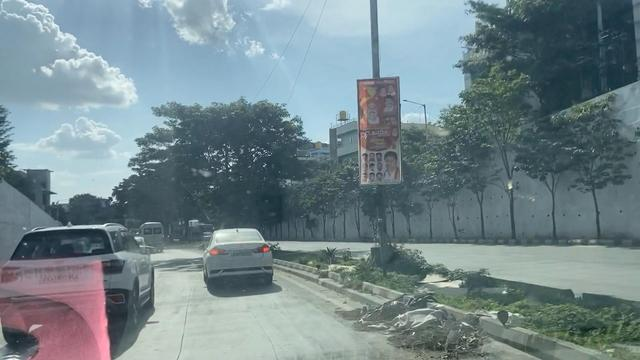LMV: (9, 226, 159, 328), (206, 229, 277, 288)
RoadDamages: (356, 285, 481, 360)
